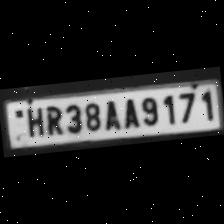1: (194, 86, 217, 122), (158, 90, 178, 126)
3: (60, 100, 83, 135)
7: (172, 88, 198, 125)
8: (81, 97, 103, 132)
9: (136, 92, 162, 128)
A: (99, 96, 121, 130), (118, 95, 138, 131)
H: (22, 104, 45, 138)
R: (41, 102, 64, 137)
